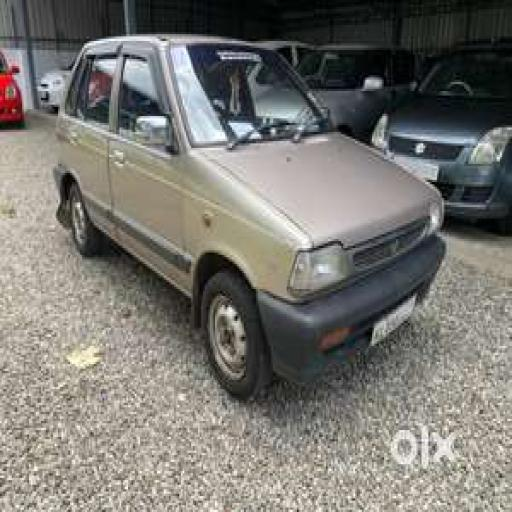License: (368, 290, 426, 352)
